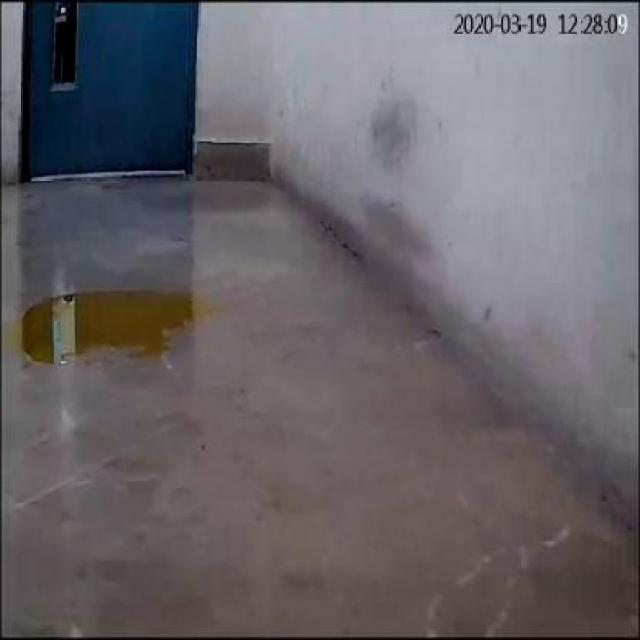spill: (10, 288, 224, 357)
